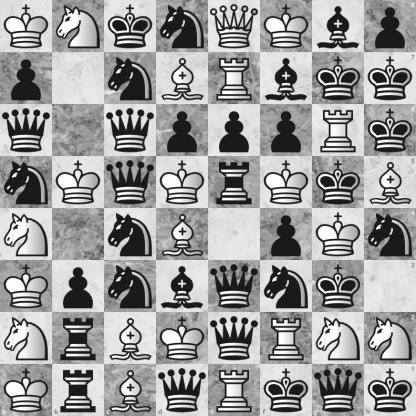B: (364, 156, 416, 209), (104, 364, 156, 416), (105, 313, 156, 364), (157, 53, 208, 104), (157, 209, 208, 260)
K: (0, 364, 52, 416), (1, 1, 52, 52), (1, 261, 52, 312), (53, 157, 104, 208), (157, 157, 208, 208), (157, 313, 208, 364), (261, 1, 312, 52), (261, 157, 312, 208), (313, 209, 364, 260)
N: (364, 312, 416, 364), (1, 209, 52, 260), (1, 313, 52, 364), (53, 1, 104, 52), (313, 313, 364, 364)
Q: (209, 1, 260, 52)
R: (209, 364, 260, 416), (209, 53, 260, 104), (261, 313, 312, 364), (313, 105, 364, 156)
b: (157, 261, 208, 312), (261, 53, 312, 104), (313, 1, 364, 52)
board: (0, 0, 415, 415)
k: (260, 364, 312, 416), (364, 52, 416, 104), (364, 104, 416, 156), (364, 364, 416, 416), (105, 1, 156, 52), (313, 53, 364, 104), (313, 157, 364, 208), (313, 261, 364, 312)
n: (364, 209, 416, 260), (1, 157, 52, 208), (105, 53, 156, 104), (105, 209, 156, 260), (105, 261, 156, 312), (157, 1, 208, 52), (261, 261, 312, 312)
p: (364, 0, 416, 52), (1, 53, 52, 104), (53, 261, 104, 312), (157, 105, 208, 156), (209, 105, 260, 156), (261, 105, 312, 156), (261, 209, 312, 260)
q: (156, 364, 209, 416), (312, 364, 364, 416), (1, 105, 52, 156), (105, 105, 156, 156), (105, 157, 156, 208), (209, 261, 260, 312), (209, 313, 260, 364)
r: (52, 364, 104, 416), (53, 313, 104, 364), (209, 157, 260, 208)
